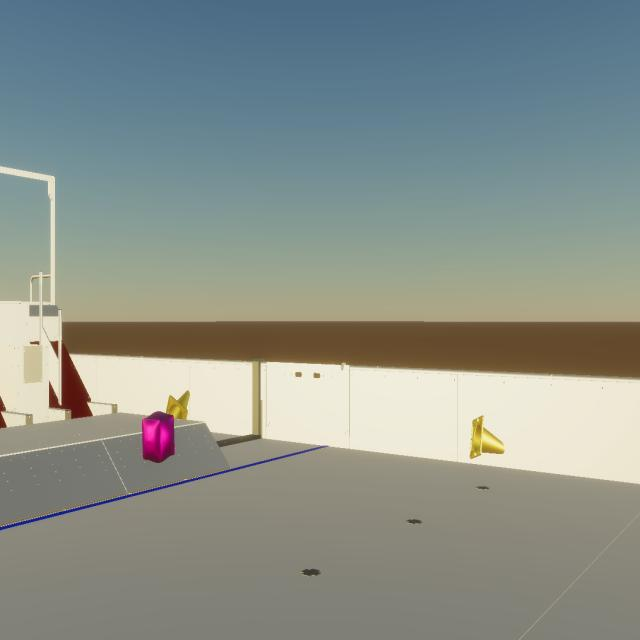frc_cone: (470, 416, 504, 460), (166, 390, 190, 420)
frc_cube: (142, 411, 175, 463)
